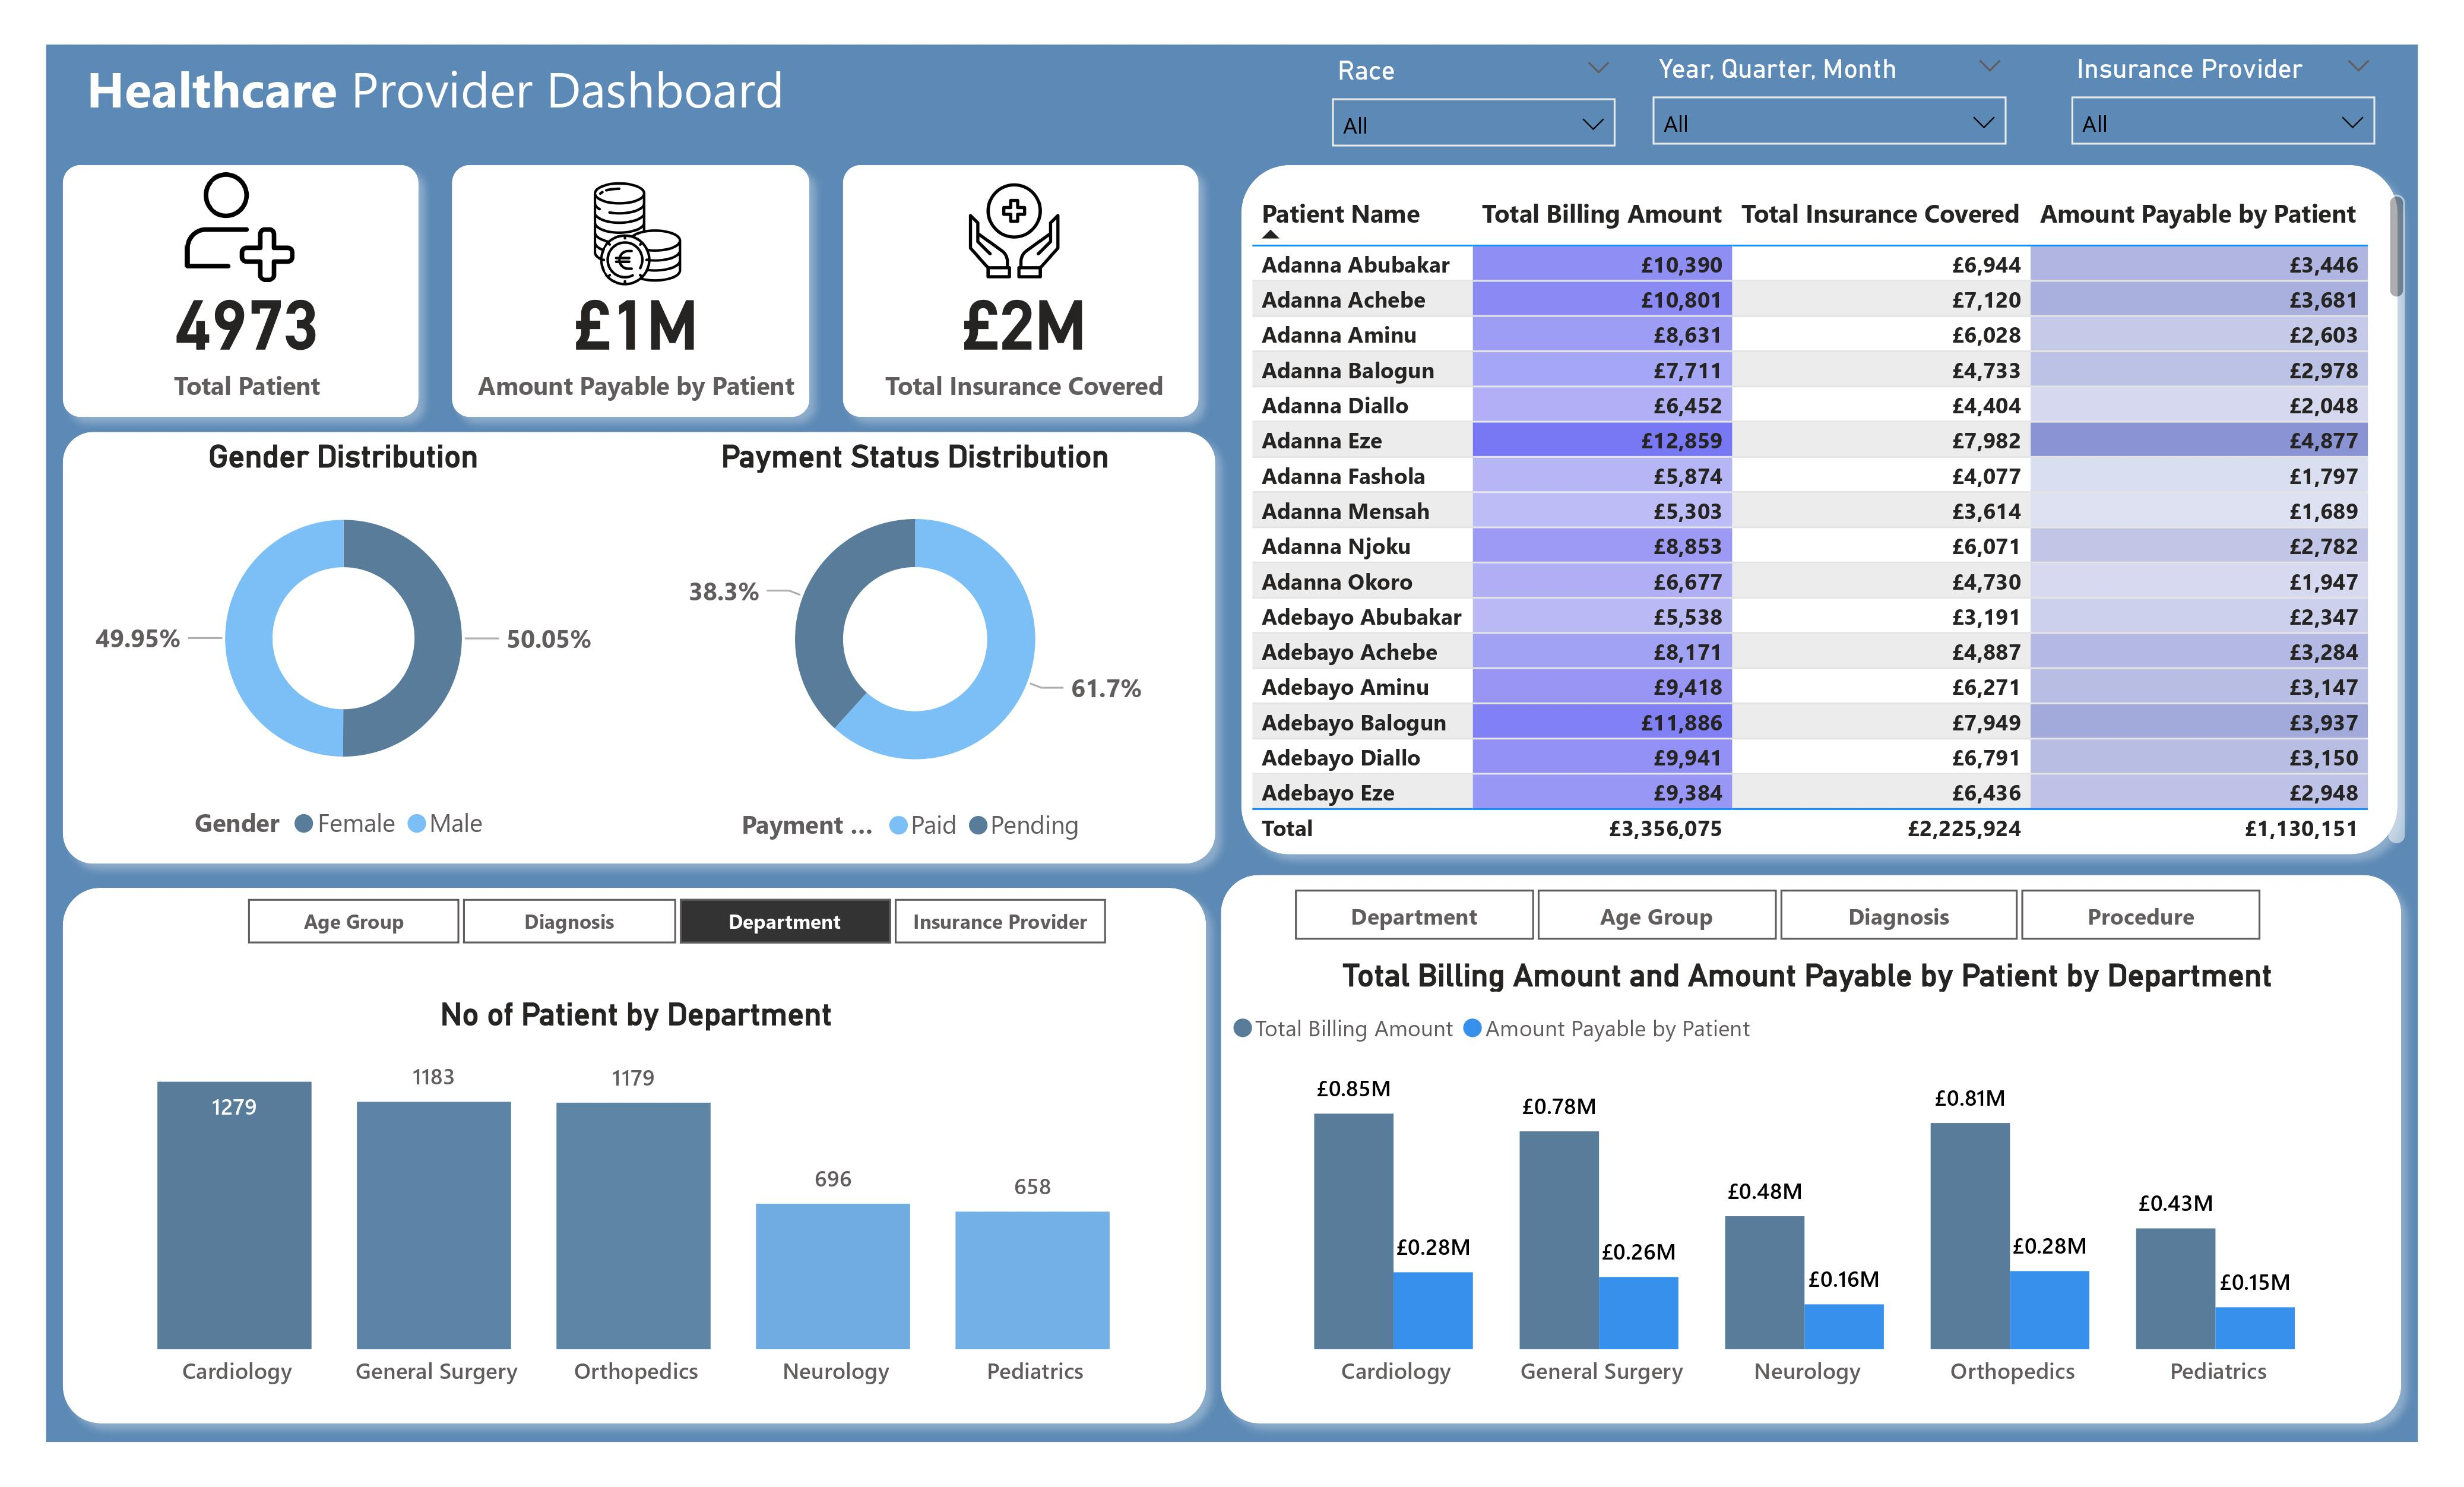

Layout of this report page (visuals, bound fields, positions):
{"tool":"powerbi","page":{"name":"Patience Billing Overview","canvas":[1280,754],"ordinal":0},"visuals":[{"type":"shape","box":[0,56,210.3,154.3],"z":0},{"type":"shape","box":[635.7,56.4,642.6,389.4],"z":1000},{"type":"shape","box":[0,199.7,640,251.2],"z":2000},{"type":"textbox","box":[16.5,0,518.7,56.4],"z":3000},{"type":"slicer","fields":{"Values":["patients.Race"]},"box":[683.8,1.4,173.4,55],"z":4000},{"type":"slicer","fields":{"Values":["Datetable.Year","Datetable.Quarter","Datetable.Month"]},"box":[857.2,0,210.5,56.4],"z":5000},{"type":"shape","box":[210.3,56,210.3,154.3],"z":6000},{"type":"shape","box":[420.6,56,210.3,154.3],"z":7000},{"type":"shape","box":[0,446.3,635.5,307.1],"z":8000},{"type":"card","fields":{"Values":["patients.Total Patient"]},"box":[12.1,115,193,83.2],"z":9000},{"type":"card","fields":{"Values":["My Dax.Amount Payable by Patient"]},"box":[222.4,115,193,83.2],"z":10000},{"type":"card","fields":{"Values":["My Dax.Total Insurance Covered"]},"box":[431.2,115,193.7,83.2],"z":11000},{"type":"donutChart","title":"Gender Distribution","fields":{"Category":["patients.Gender"],"Y":["CountNonNull(patients.Gender)"]},"box":[12.1,211.8,296.5,227],"z":12000},{"type":"donutChart","title":"Payment Status Distribution","fields":{"Category":["visits.Payment Status"],"Y":["CountNonNull(visits.Payment Status)"]},"box":[308.7,211.8,320.8,228.5],"z":13000},{"type":"shape","box":[624.9,438.8,655.1,314.7],"z":14000},{"type":"tableEx","fields":{"Values":["patients.Patient Name","My Dax.Total Billing Amount","My Dax.Total Insurance Covered","My Dax.Amount Payable by Patient"]},"box":[645.3,75.7,632.9,360.5],"z":15000},{"type":"slicer","fields":{"Values":["insurance.Insurance Provider"]},"box":[1082.8,0,184.4,56.4],"z":16000},{"type":"clusteredColumnChart","fields":{"Category":["departments.Department","patients.Age Group","diagnoses.Diagnosis","procedures.Procedure"],"Y":["My Dax.Total Billing Amount","My Dax.Amount Payable by Patient"]},"box":[635.5,491.7,630.9,242.1],"z":17000},{"type":"slicer","fields":{"Values":["Filter Measure.Filter Measure"]},"box":[647.6,449.4,571.9,40.9],"z":18000},{"type":"image","box":[431.2,68.1,181.6,65.1],"z":19000},{"type":"image","box":[222.4,68.1,193.7,68.1],"z":20000},{"type":"image","box":[15.1,63.5,178.5,69.6],"z":21000},{"type":"slicer","fields":{"Values":["SwitchMeas.SwitchMeas"]},"box":[82.6,454.1,513.2,37.1],"z":22000},{"type":"columnChart","fields":{"Category":["departments.Department"],"Y":["CountNonNull(patients.Patient ID)"]},"box":[12.1,512.9,612.8,220.9],"z":23000}]}

Visuals, with their boxes in screenshot pixels (x1, y1, x2, y2):
shape: [58,160,443,443]
shape: [1222,161,2399,874]
shape: [58,423,1230,884]
textbox: [88,58,1038,161]
slicer - patients.Race: [1310,61,1627,161]
slicer - Datetable.Year x Datetable.Quarter: [1627,58,2013,161]
shape: [443,160,828,443]
shape: [828,160,1213,443]
shape: [58,875,1221,1438]
card - patients.Total Patient: [80,268,433,421]
card - My Dax.Amount Payable by Patient: [465,268,818,421]
card - My Dax.Total Insurance Covered: [847,268,1202,421]
"Gender Distribution" donutChart: [80,445,623,862]
"Payment Status Distribution" donutChart: [623,445,1211,864]
shape: [1202,862,2402,1438]
tableEx - patients.Patient Name x My Dax.Total Billing Amount: [1239,197,2398,857]
slicer - insurance.Insurance Provider: [2041,58,2378,161]
clusteredColumnChart - departments.Department x patients.Age Group: [1221,958,2377,1401]
slicer - Filter Measure.Filter Measure: [1243,881,2291,956]
image: [847,182,1180,302]
image: [465,182,820,307]
image: [85,174,412,302]
slicer - SwitchMeas.SwitchMeas: [209,890,1149,957]
columnChart - departments.Department x CountNonNull(patients.Patient ID): [80,997,1202,1401]
